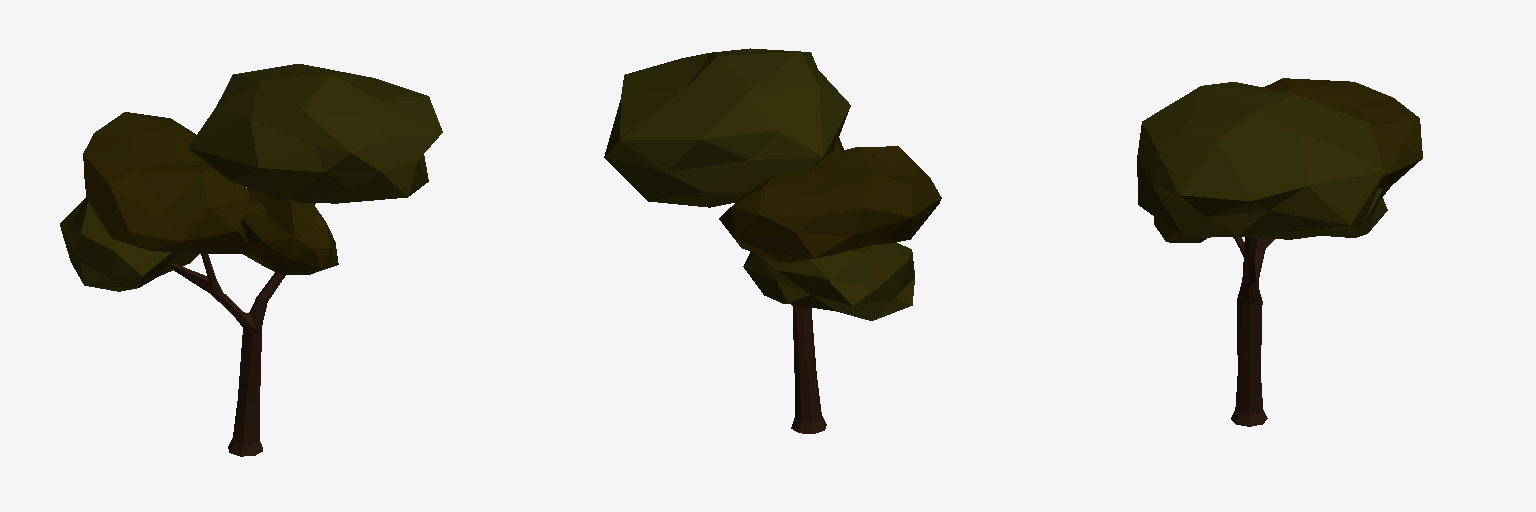
The model's file is tree2.obj.
3 views of the same model, side by side, from view 1: azimuth 30°, elevation 25°; view 2: azimuth 150°, elevation 25°; view 3: azimuth 270°, elevation 25° (orthographic).
Visible parts, largest first — view 1: Icosphere.014_Icosphere.017, Cylinder.010_Cylinder.003; view 2: Icosphere.014_Icosphere.017, Cylinder.010_Cylinder.003; view 3: Icosphere.014_Icosphere.017, Cylinder.010_Cylinder.003.
Part boxes in pixels (bbox=[...]): Icosphere.014_Icosphere.017: bbox=[60, 64, 442, 291]; Cylinder.010_Cylinder.003: bbox=[171, 203, 315, 456]; Icosphere.014_Icosphere.017: bbox=[604, 48, 941, 320]; Cylinder.010_Cylinder.003: bbox=[791, 305, 826, 433]; Icosphere.014_Icosphere.017: bbox=[1137, 78, 1422, 242]; Cylinder.010_Cylinder.003: bbox=[1231, 236, 1274, 426].
Bounding box in the file's own units: 6.06 × 6.41 × 4.74.